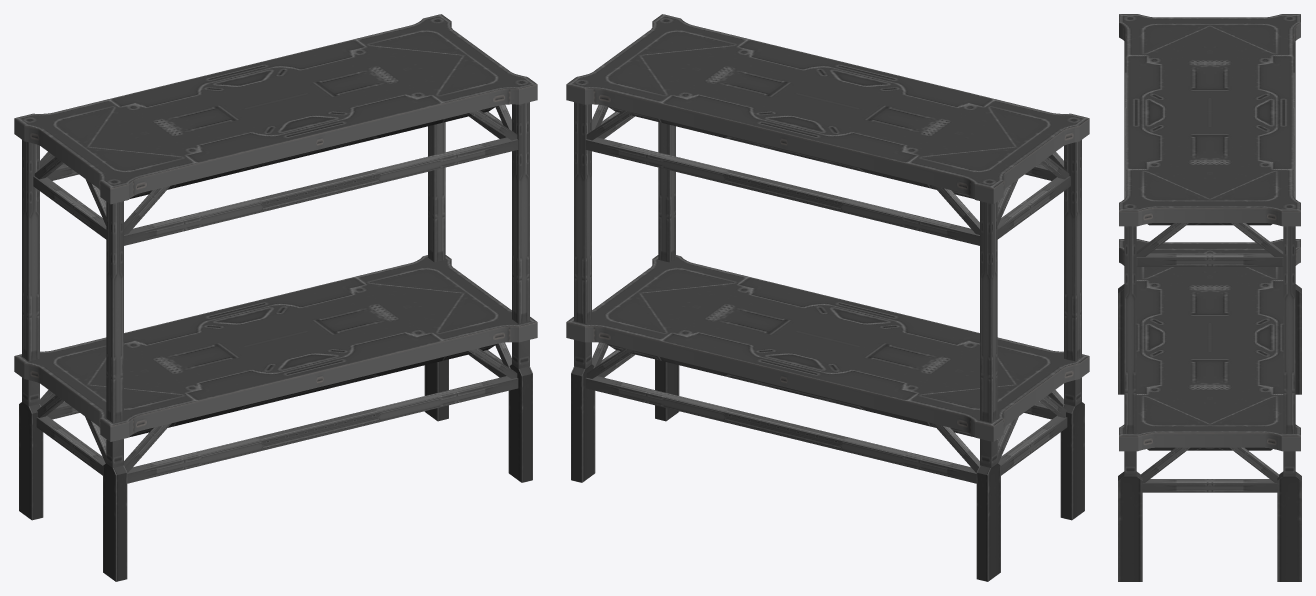
File: q-scifi-ess-prop-shelves-thinshort.glb
3 renders of one model, left to right at view 1: azimuth 30°, elevation 25°; view 2: azimuth 150°, elevation 25°; view 3: azimuth 270°, elevation 25°, orthographic. The views are drawn at different scales.
Visible parts, largest first — view 1: Prop_Shelves_ThinShort; view 2: Prop_Shelves_ThinShort; view 3: Prop_Shelves_ThinShort.
Part boxes in pixels (<box>): Prop_Shelves_ThinShort: <box>14,14,537,581</box>; Prop_Shelves_ThinShort: <box>566,14,1089,581</box>; Prop_Shelves_ThinShort: <box>1118,14,1301,581</box>.
Size of the model in its own units: 1.37 by 1.21 by 0.5407.
1 material, 1 textured.
